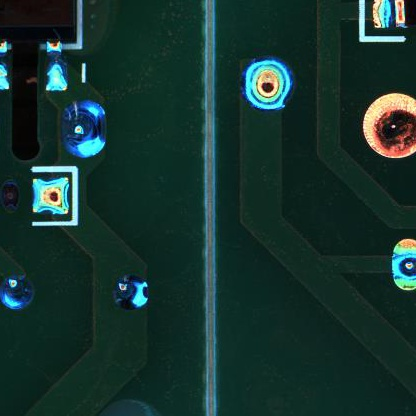spot: (243, 58, 293, 110), (62, 101, 107, 158), (391, 239, 416, 293)
